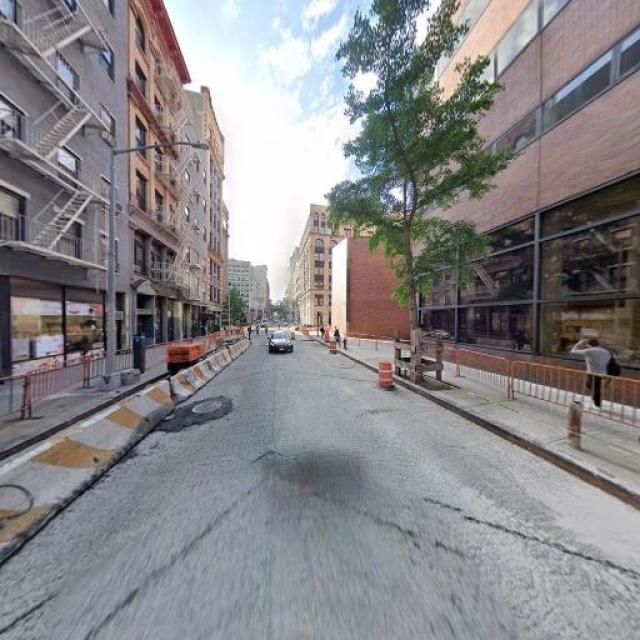Building: (414, 1, 640, 417), (1, 1, 225, 388)
